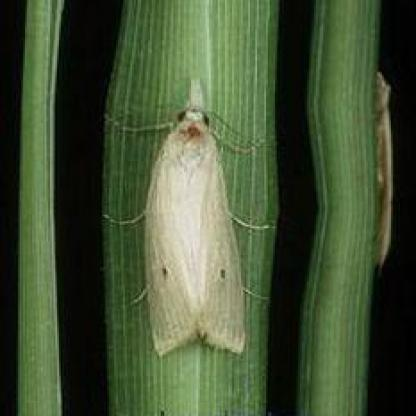stem-borer: (111, 75, 264, 358)
